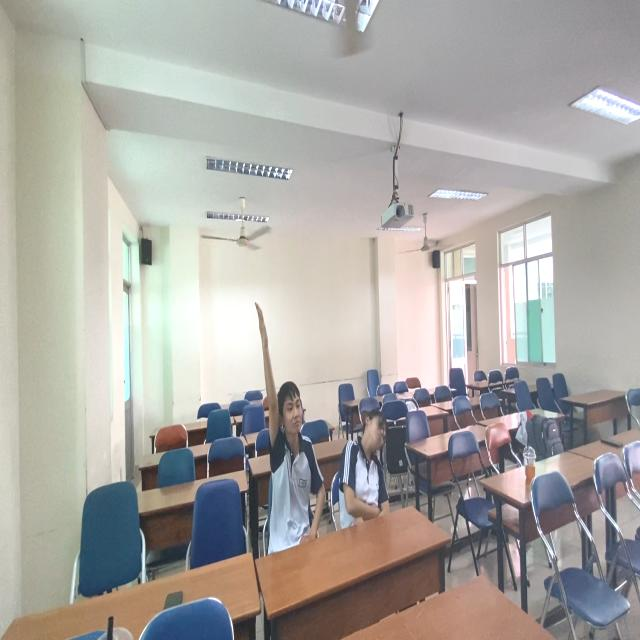raise_hand: (250, 297, 324, 537)
